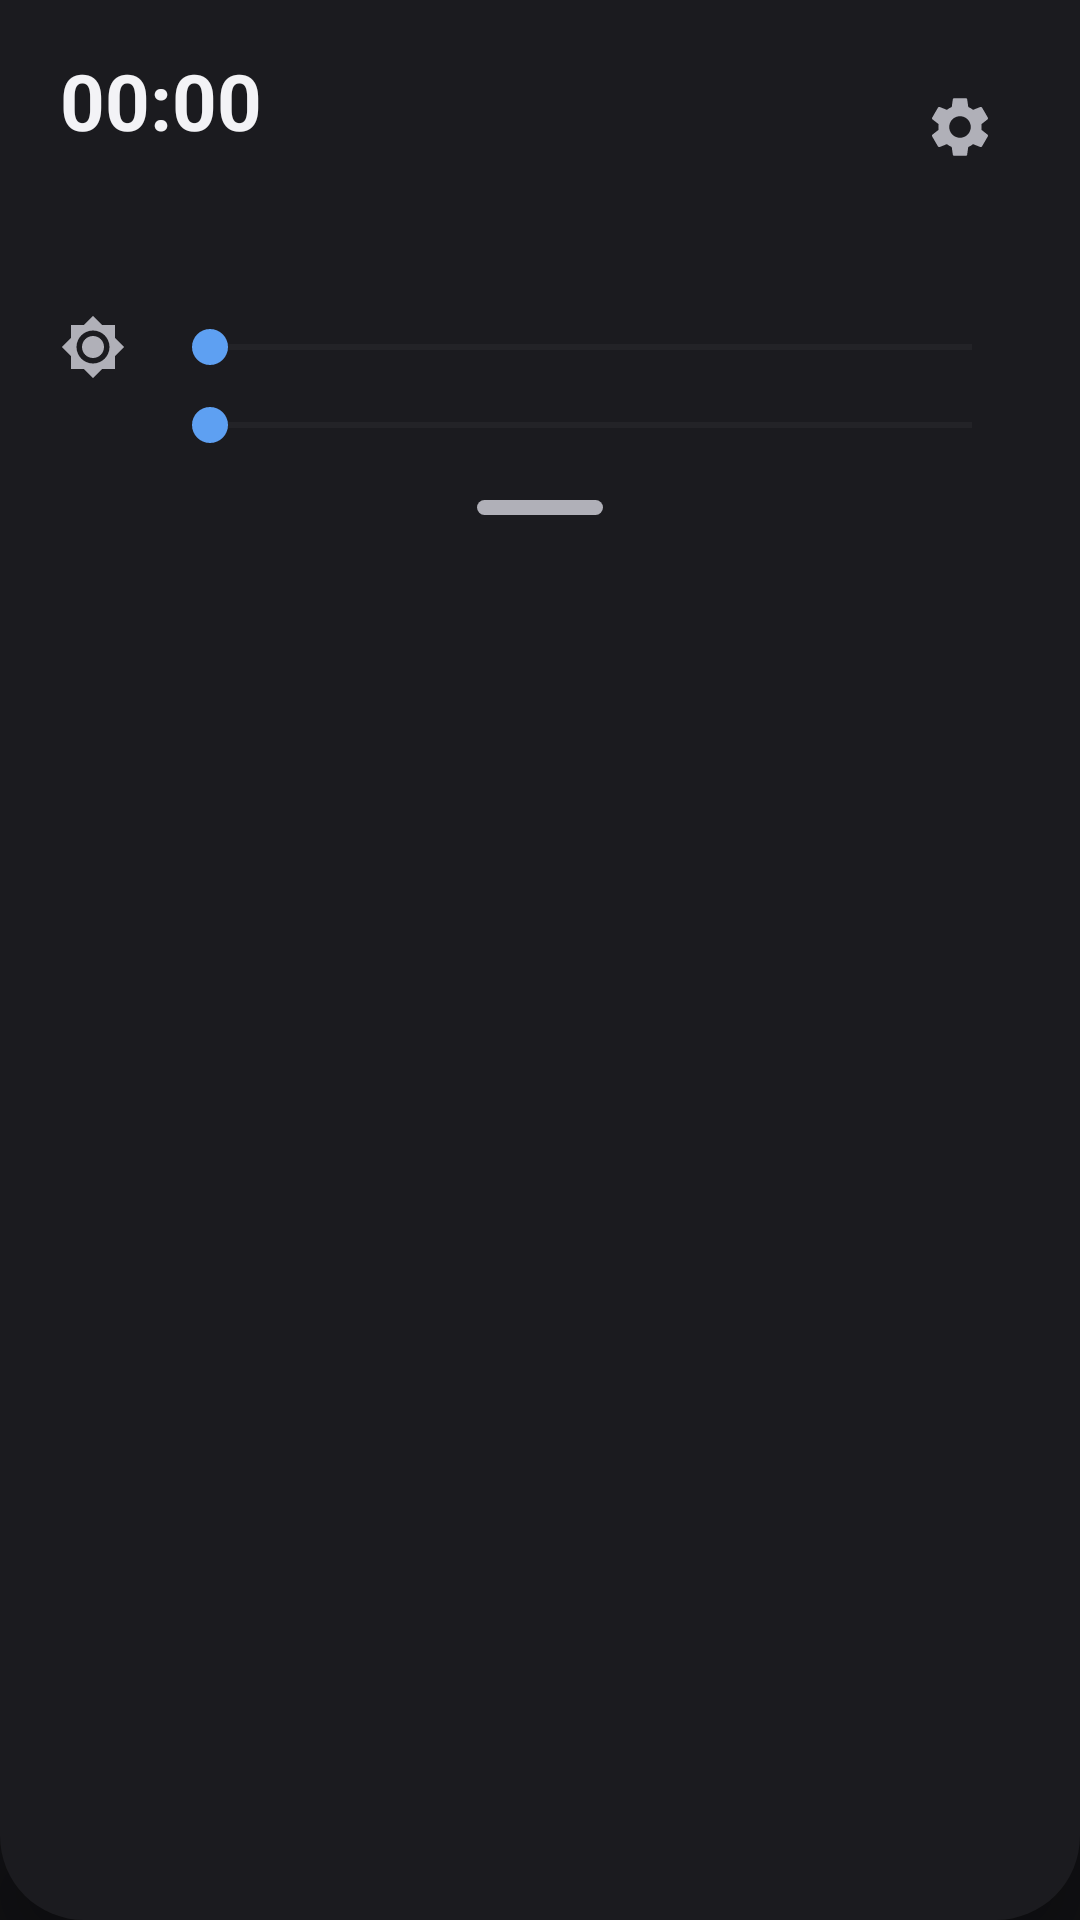

Screen size 1080 × 1920. Icon name, then its box in pixels as (x1, y1, x2, y2):
明るさ: (62, 316, 124, 378)
設定: (932, 98, 988, 156)
